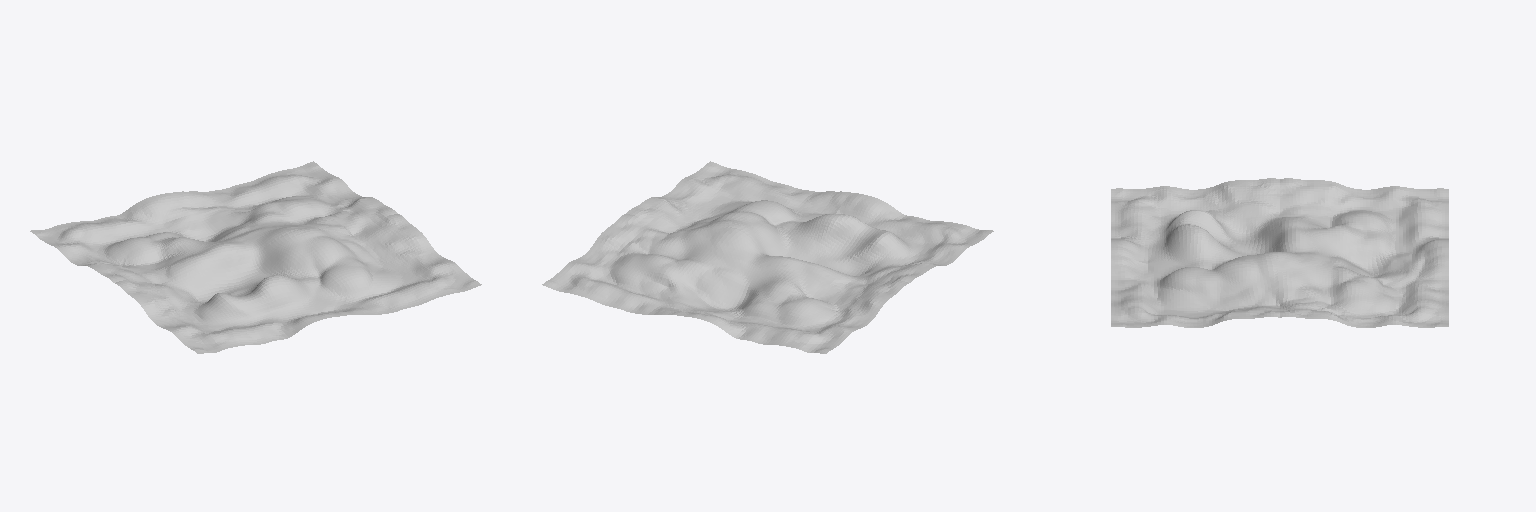
The model's file is ground_model1.obj.
The picture shows the model from 3 angles: view 1: azimuth 30°, elevation 25°; view 2: azimuth 150°, elevation 25°; view 3: azimuth 270°, elevation 25°; orthographic projection.
Visible parts, largest first — view 1: pPlane20; view 2: pPlane20; view 3: pPlane20.
Part boxes in pixels (x1,y1,x2,y2): pPlane20: (30, 161, 481, 353); pPlane20: (542, 161, 993, 353); pPlane20: (1111, 178, 1448, 327).
Size of the model in its own units: 248 by 30.49 by 256.